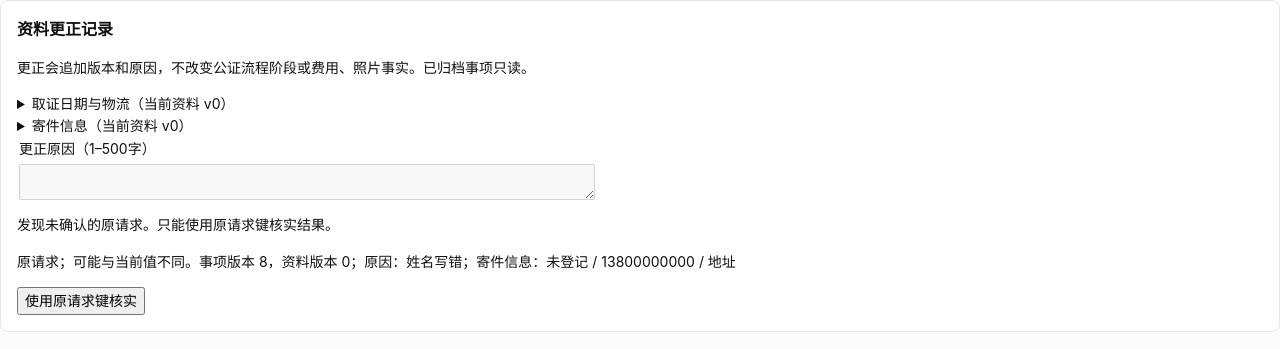
Scenario: NotaryRecordCorrectionPanel › replays the original key and body when a prior correction succeeded before archival
Expected: the message with test id "pending-correction-summary" shows "原请求；可能与当前值不同", [17,252,736,270]
Expected: the message with test id "pending-correction-summary" shows "13800000000 / 地址", [17,252,736,270]
Click the button with test id "retry-correction" at {"x": 81, "y": 301}, box [17,287,145,315]
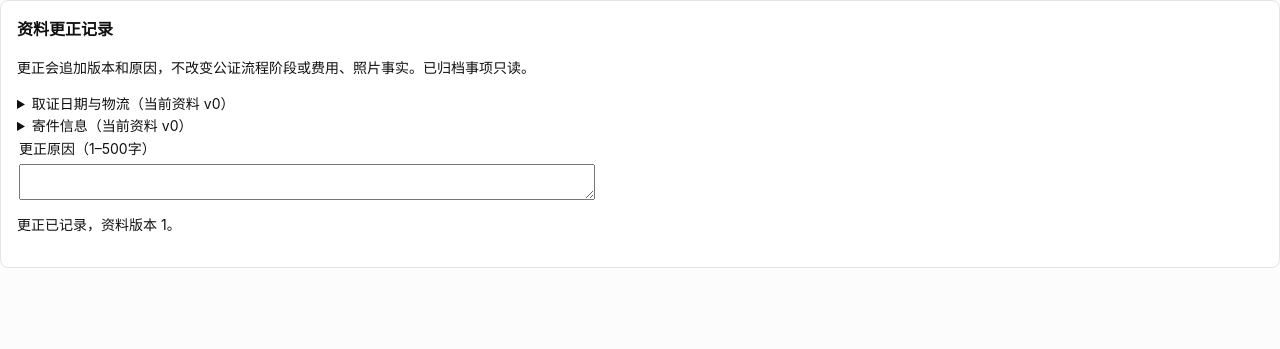
Expected: the text "更正已记录" is shown, [17,216,181,233]
